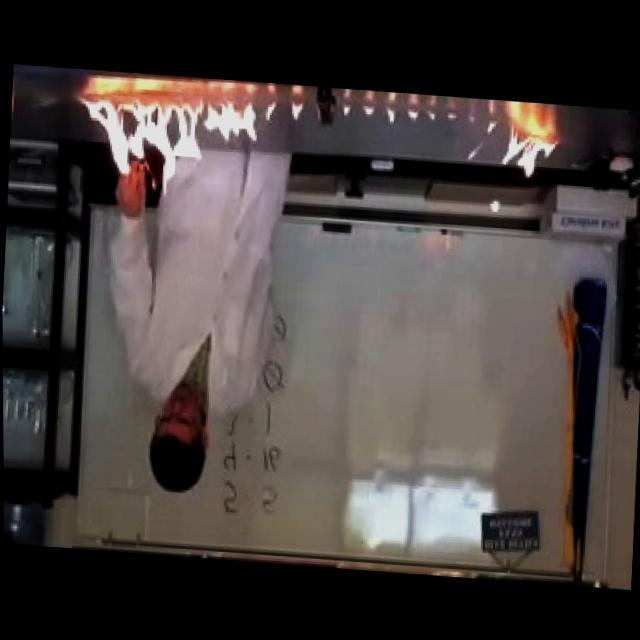helmet: (72, 88, 259, 205), (498, 117, 560, 183)
